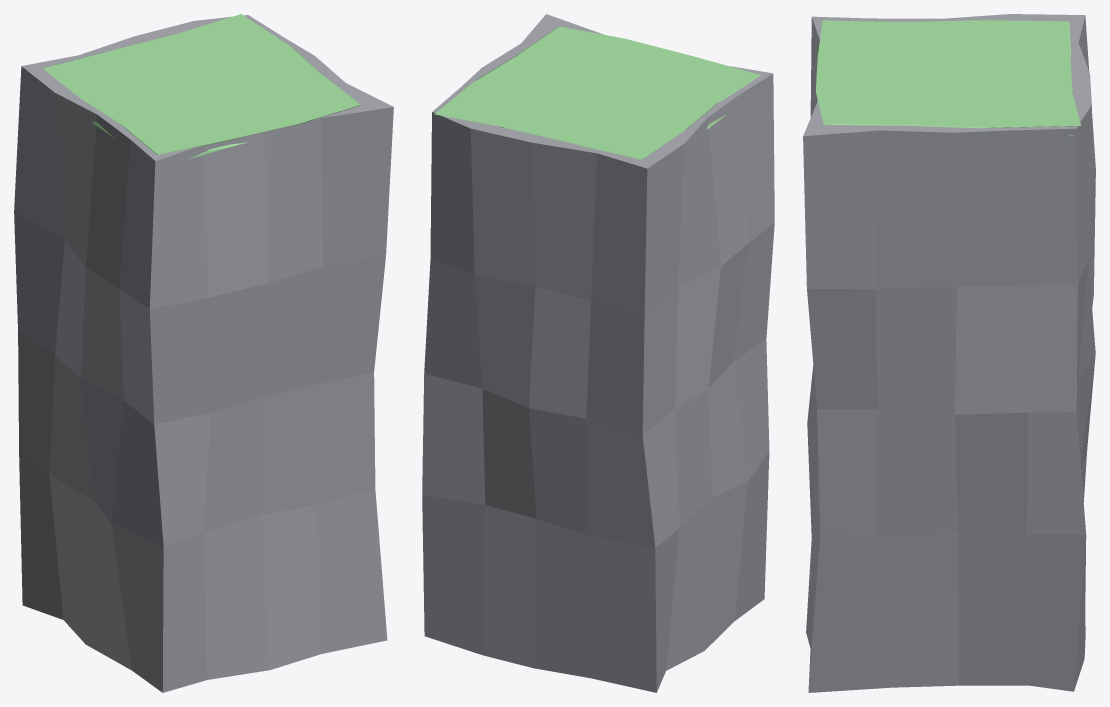
The model's file is ASTX_GEO_STACK.glb.
3 renders of one model, left to right at view 1: azimuth 30°, elevation 25°; view 2: azimuth 150°, elevation 25°; view 3: azimuth 270°, elevation 25°, orthographic. The views are drawn at different scales.
Visible parts, largest first — view 1: ASTX_GEO_stack, ASTX_GEO_stack_cap; view 2: ASTX_GEO_stack, ASTX_GEO_stack_cap; view 3: ASTX_GEO_stack, ASTX_GEO_stack_cap.
Part boxes in pixels (left/top/right/bottom): ASTX_GEO_stack: left=14, top=15, right=393, bottom=692; ASTX_GEO_stack_cap: left=42, top=14, right=360, bottom=159; ASTX_GEO_stack: left=422, top=14, right=774, bottom=692; ASTX_GEO_stack_cap: left=435, top=26, right=760, bottom=159; ASTX_GEO_stack: left=803, top=14, right=1095, bottom=692; ASTX_GEO_stack_cap: left=815, top=20, right=1080, bottom=136.
Size of the model in its own units: 6.46 by 13.56 by 6.44.
